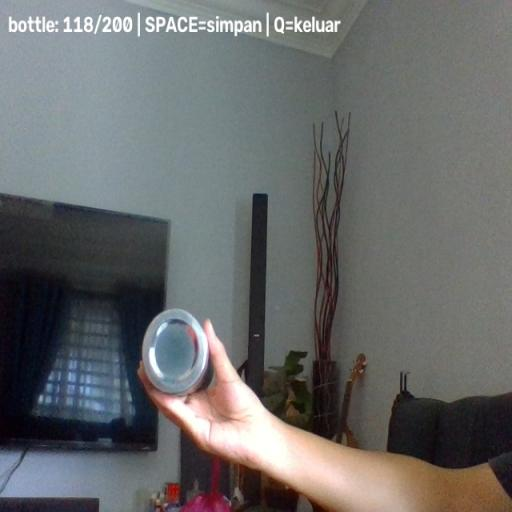Bottle: (142, 307, 214, 397)
